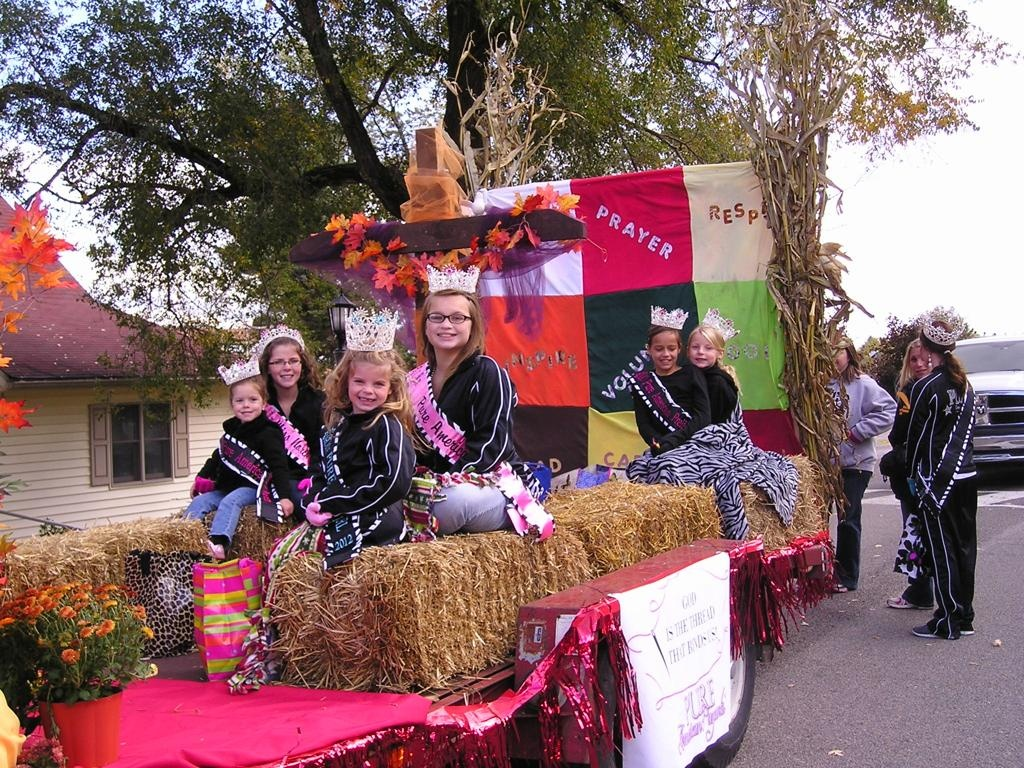human_face: (427, 296, 471, 348), (348, 364, 390, 410), (268, 350, 302, 386), (232, 387, 262, 421), (650, 336, 678, 368), (688, 334, 716, 366), (911, 348, 933, 376), (826, 344, 846, 370)
